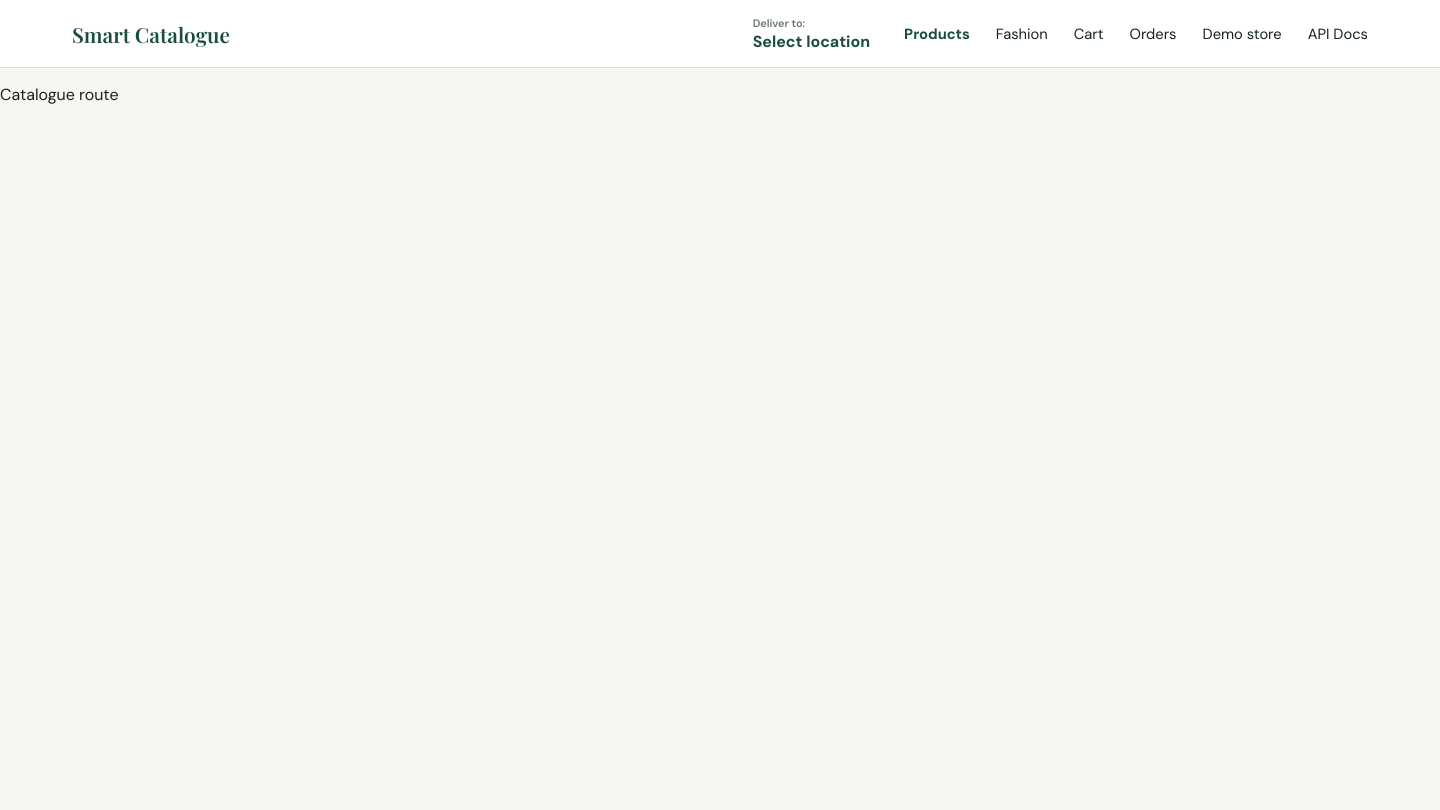
Test case: LocationSelector › starts with no selected location and opens an accessible selector
Click the button "Deliver to: Select location": (811, 34) [743,10,880,58]
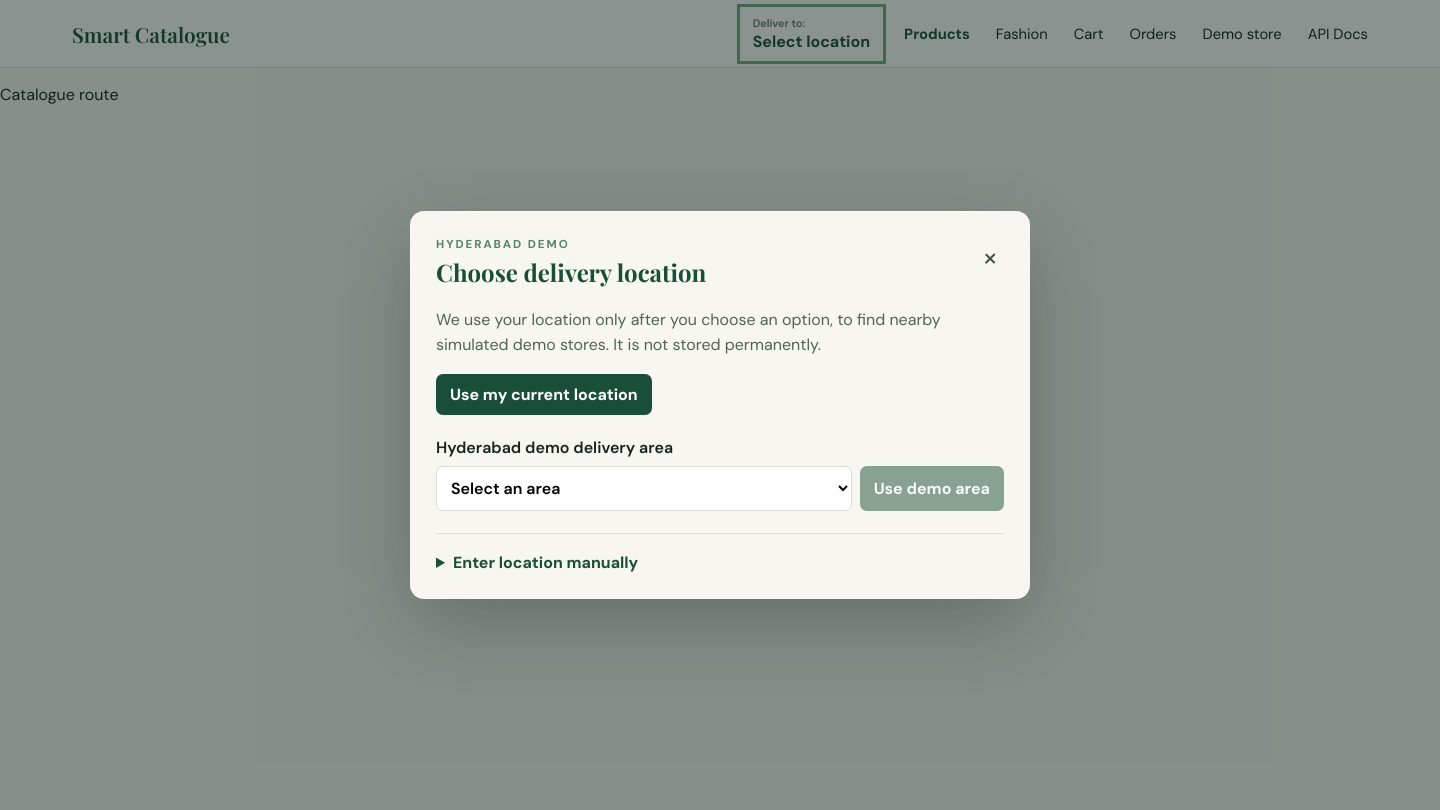
Now the dialog "Choose delivery location" is shown, box [410,211,1030,599]
Now the text "only after you choose an option" is shown, box [436,309,941,355]
